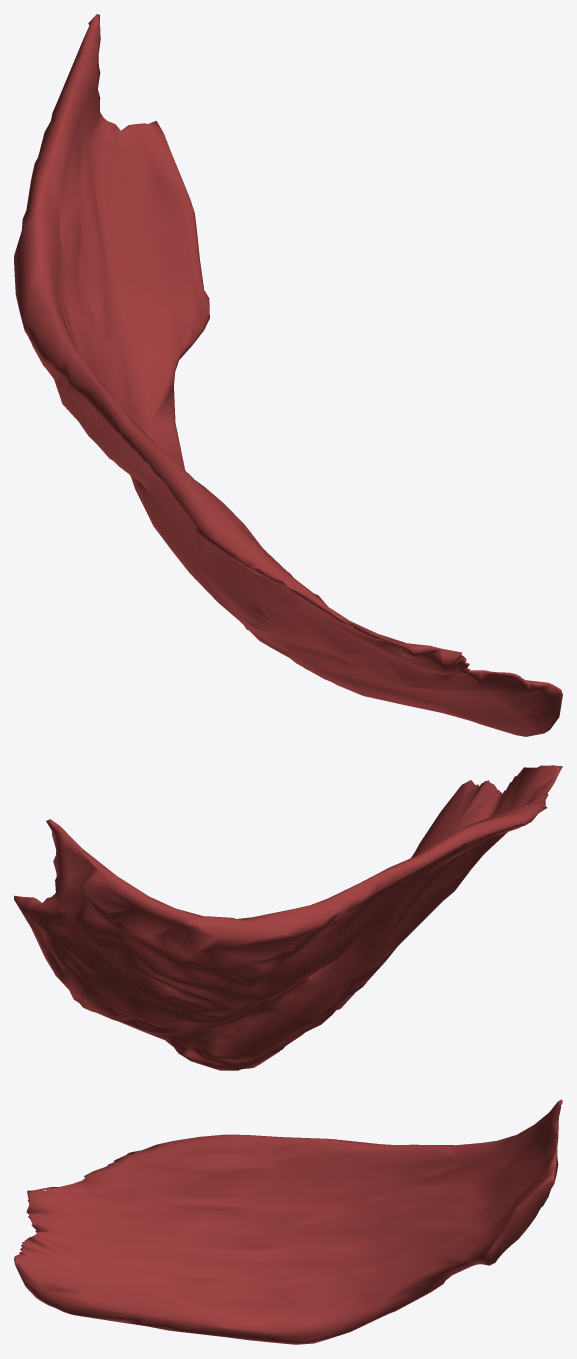
Rendered from pubococcygeus-muscle-r.glb.
3 renders of one model, top to bottom at view 1: azimuth 30°, elevation 25°; view 2: azimuth 150°, elevation 25°; view 3: azimuth 270°, elevation 25°, orthographic. The views are drawn at different scales.
Parts seen in each view (by area): view 1: Pubococcygeus muscle.r; view 2: Pubococcygeus muscle.r; view 3: Pubococcygeus muscle.r.
Part boxes in pixels (<box>): Pubococcygeus muscle.r: <box>14,14,562,736</box>; Pubococcygeus muscle.r: <box>14,765,562,1070</box>; Pubococcygeus muscle.r: <box>14,1099,562,1344</box>.
Bounding box in the file's own units: 0.0333 × 0.0483 × 0.0936.
